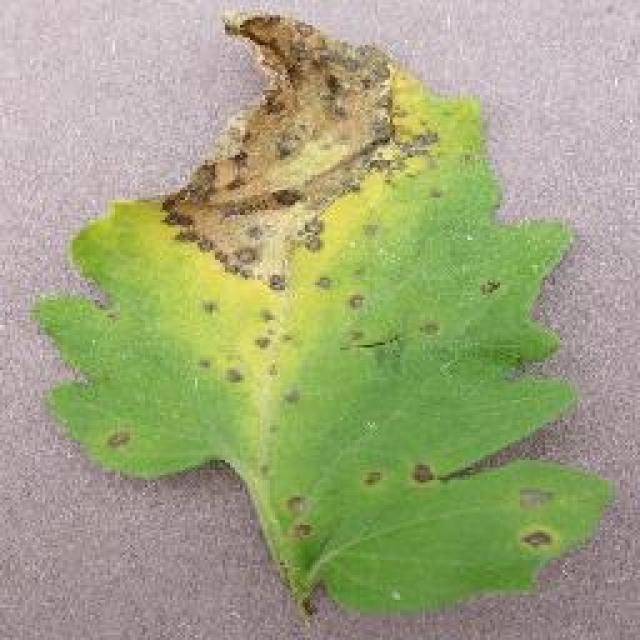Tom_Septoria_leaf_spot: (150, 15, 455, 274), (174, 284, 381, 418)
